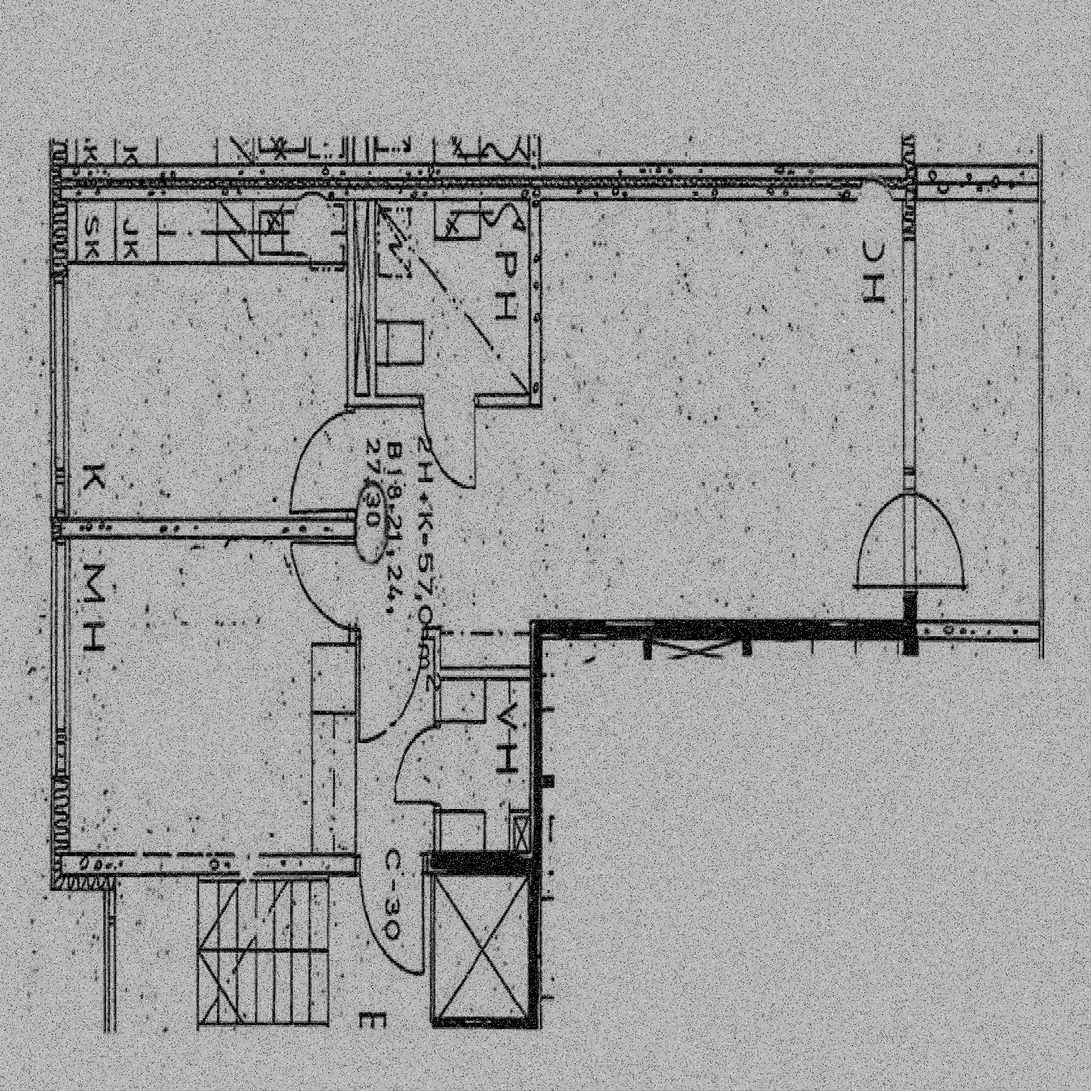wall: (51, 164, 915, 201), (51, 164, 70, 890), (116, 855, 541, 875), (531, 620, 915, 639), (347, 164, 377, 407), (51, 519, 356, 537), (904, 164, 915, 639), (915, 164, 1039, 201), (529, 164, 541, 407), (915, 620, 1039, 639), (347, 395, 541, 407), (51, 855, 116, 890), (530, 620, 541, 810), (347, 407, 356, 639), (509, 810, 541, 874), (434, 628, 441, 875), (434, 668, 542, 679), (347, 628, 440, 639), (347, 639, 356, 644)
